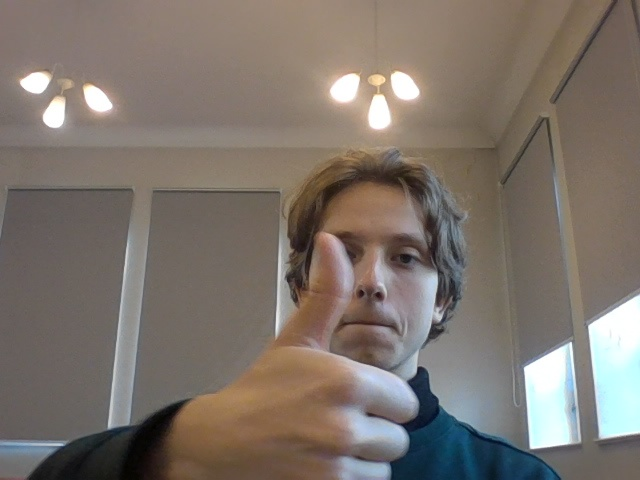thank you: (217, 226, 434, 480)
